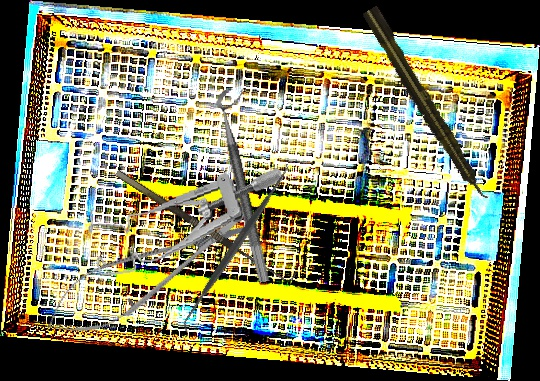Fixation Ring: (213, 85, 287, 284)
Handpiece: (360, 4, 493, 206)
Hook Surgical: (114, 160, 298, 288)
Micro Scissor: (33, 190, 269, 354)
Spatula Surgical: (171, 160, 300, 334)
Speculum: (81, 164, 295, 279)
